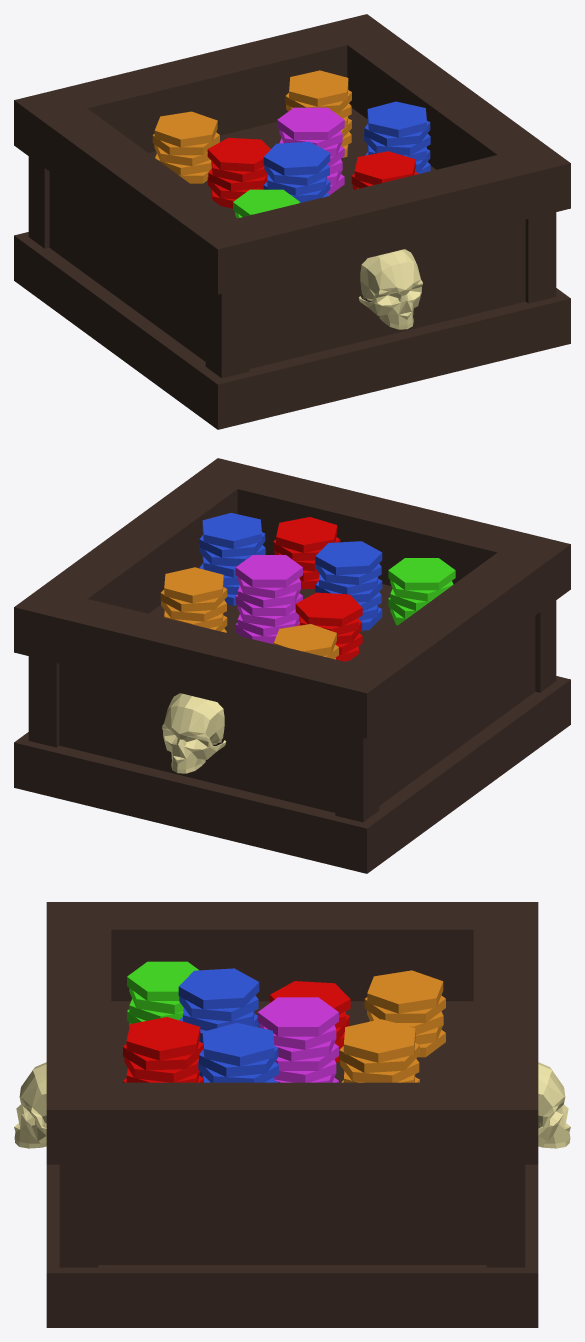
The model's file is CajaFichasv01.fbx.
3 views of the same model, one above another, from view 1: azimuth 30°, elevation 25°; view 2: azimuth 150°, elevation 25°; view 3: azimuth 270°, elevation 25° (orthographic). The views are drawn at different scales.
Parts seen in each view (by area): view 1: Cube, Circle.044, Cylinder.007; view 2: Cube, Circle.044, Cylinder.007; view 3: Cube, Circle.044, Cylinder.007.
Part boxes in pixels (x1,y1,x2,y2): Cube: (14, 14, 570, 429); Circle.044: (152, 70, 430, 218); Cylinder.007: (358, 249, 422, 329); Cube: (14, 458, 570, 873); Circle.044: (160, 513, 455, 661); Cylinder.007: (162, 693, 226, 773); Cube: (46, 902, 538, 1327); Circle.044: (123, 961, 445, 1082); Cylinder.007: (14, 1062, 570, 1148).
Bounding box in the file's own units: 0.9777 × 0.51 × 1.11.
